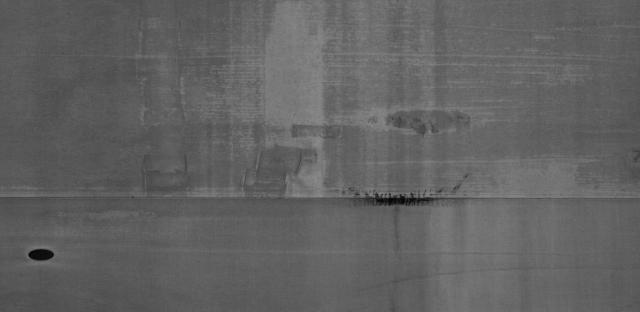inclusion: (339, 184, 463, 208)
punching_hole: (23, 239, 59, 266)
rolled_pit: (128, 16, 198, 198), (223, 115, 344, 196)
welding_line: (2, 189, 638, 212)
